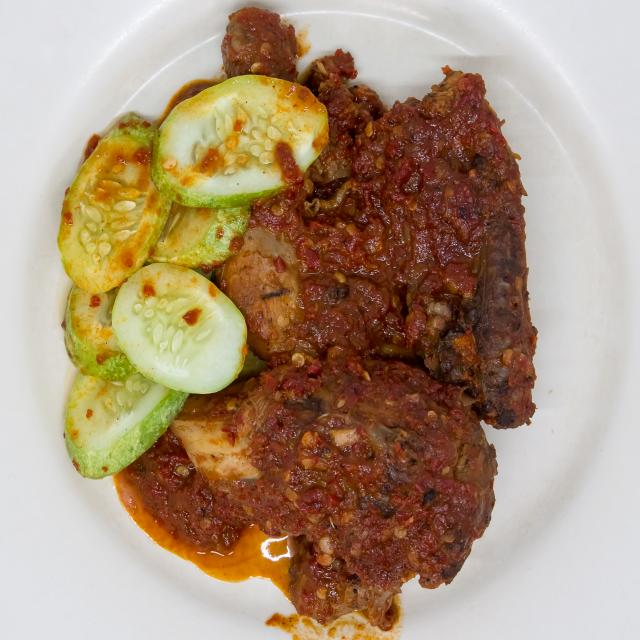Ayam-Bumbu-Rujak: (120, 1, 549, 611)
